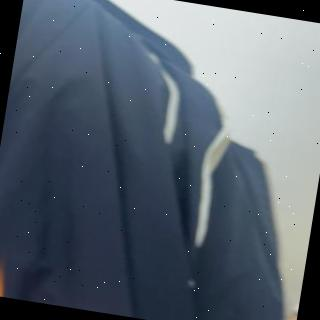fire: (0, 262, 15, 298)
